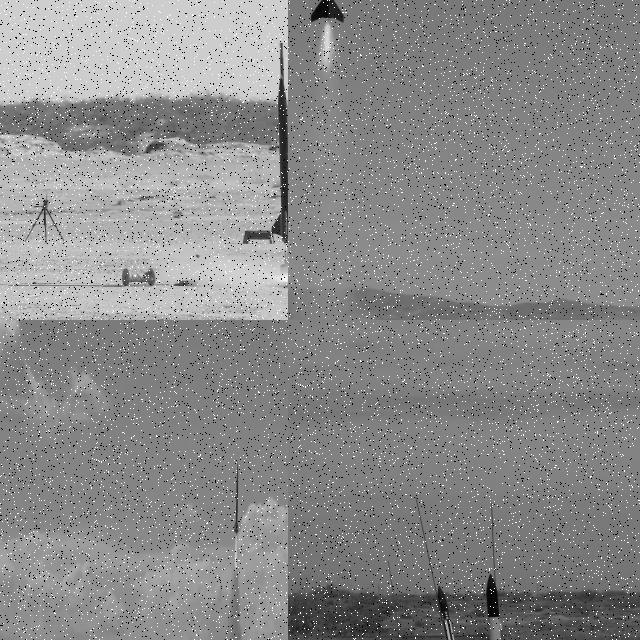Rocket: (269, 72, 288, 242), (480, 572, 517, 640), (437, 585, 465, 640), (234, 461, 239, 537)
